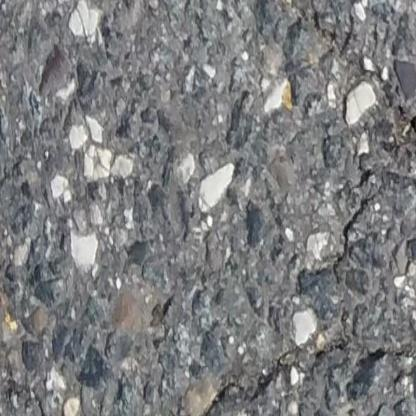Cracks: (148, 333, 416, 416), (269, 0, 337, 51), (379, 81, 416, 157)
